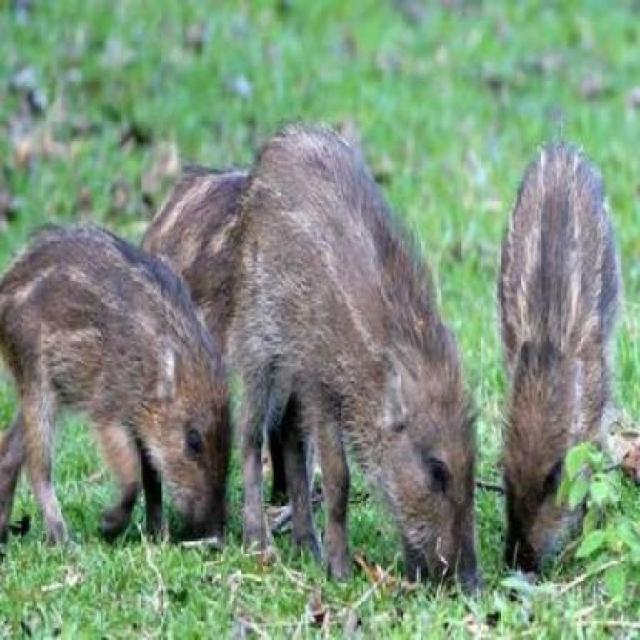Boar: (223, 106, 589, 580), (0, 221, 272, 530), (476, 97, 638, 580)
